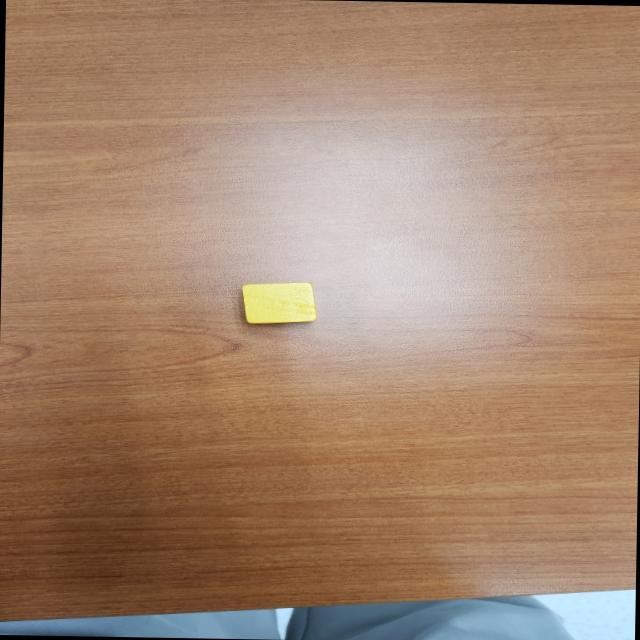yellow: (238, 280, 320, 326)
